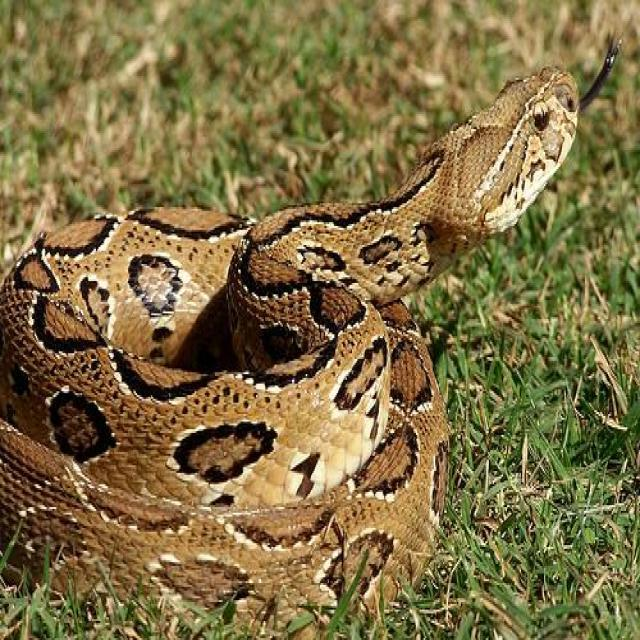Snake: (0, 26, 620, 620)
